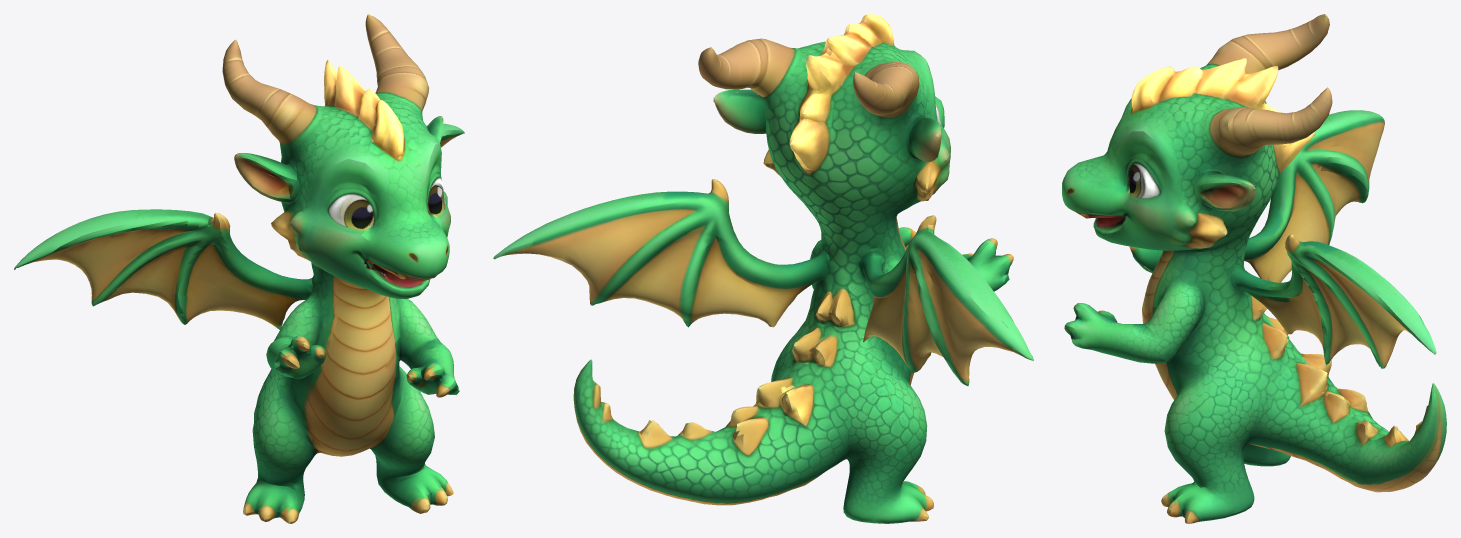
File: 03_Emerald_Dragon_Teen.glb
3 renders of one model, left to right at view 1: azimuth 30°, elevation 25°; view 2: azimuth 150°, elevation 25°; view 3: azimuth 270°, elevation 25°, orthographic. The views are drawn at different scales.
Visible parts, largest first — view 1: Mesh0; view 2: Mesh0; view 3: Mesh0.
Boxes of the visible parts, box(x1,y1,x2,y2) form: Mesh0: box(14, 14, 464, 523); Mesh0: box(493, 14, 1033, 523); Mesh0: box(1062, 14, 1446, 523).
Bounding box in the file's own units: 1.89 × 1.67 × 1.32.
1 material, 1 textured.
